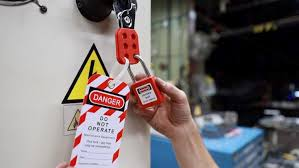hasp: (111, 1, 143, 65)
lock: (124, 55, 163, 110)
